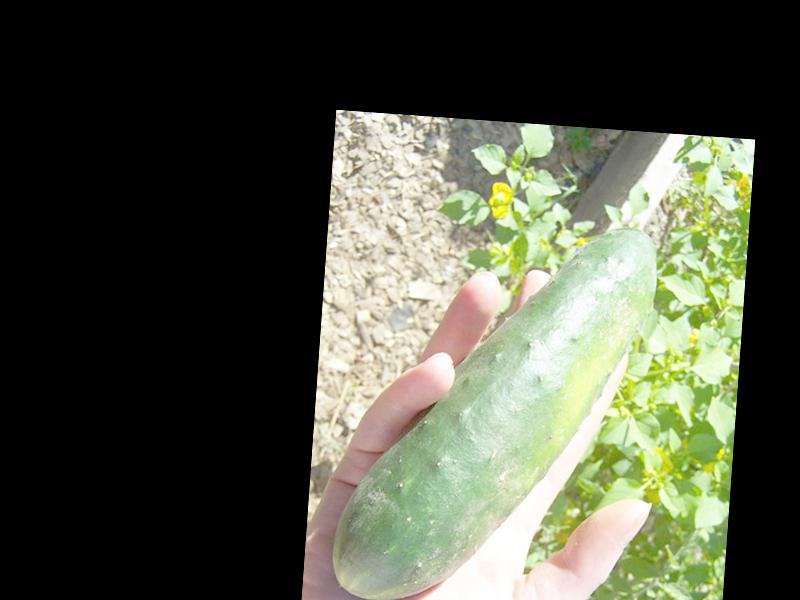Cucumber: (331, 207, 658, 600)
